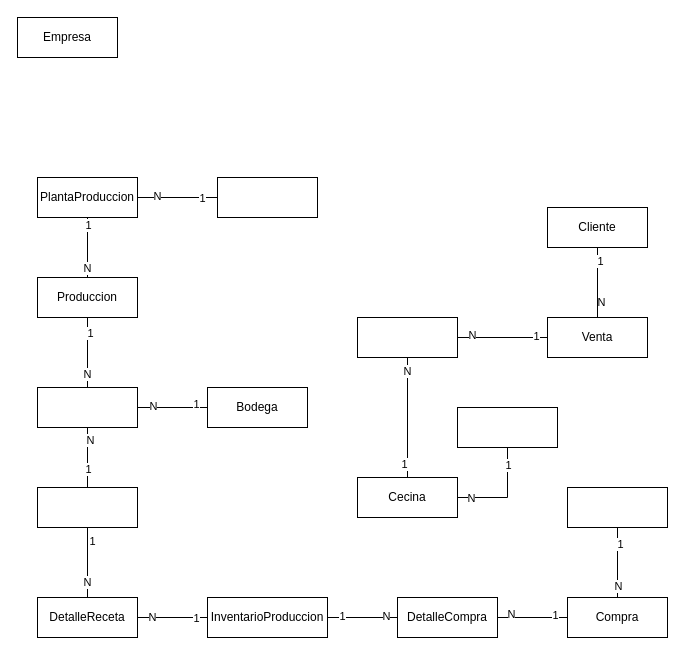
Image size: 685x655. Some labels were removed from this diagram. The centre of each missing label's shape, as x and y in pixels:
"DetalleProduccion" belongs at (x=87, y=407).
"DetalleVenta" belongs at (x=407, y=337).
"Maquinaria" belongs at (x=267, y=197).
"Proveedor" belongs at (x=617, y=507).
"Receta" belongs at (x=87, y=507).
"TipoCecina" belongs at (x=507, y=427).
